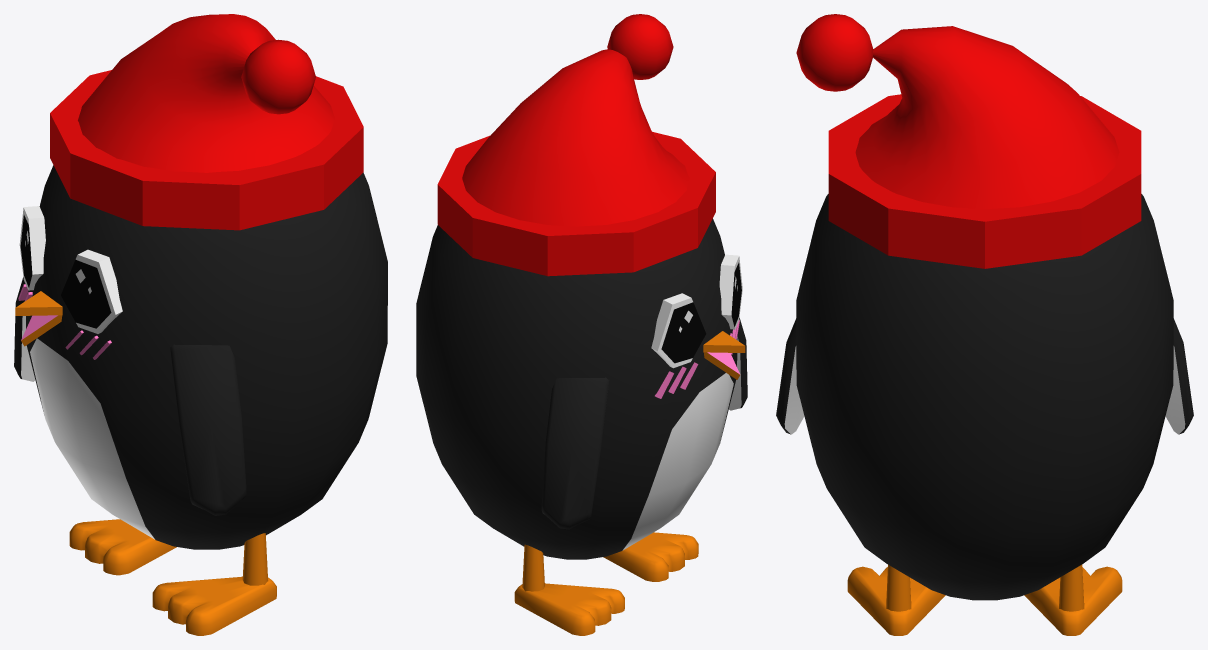
Rendered from Penguin.FBX.
3 renders of one model, left to right at view 1: azimuth 30°, elevation 25°; view 2: azimuth 150°, elevation 25°; view 3: azimuth 270°, elevation 25°, orthographic. The views are drawn at different scales.
Visible parts, largest first — view 1: penguin; view 2: penguin; view 3: penguin.
Boxes of the visible parts, <box> form: penguin: <box>14,14,387,635</box>; penguin: <box>416,14,747,635</box>; penguin: <box>776,14,1193,635</box>.
Size of the model in its own units: 59.03 by 59.38 by 94.87.
